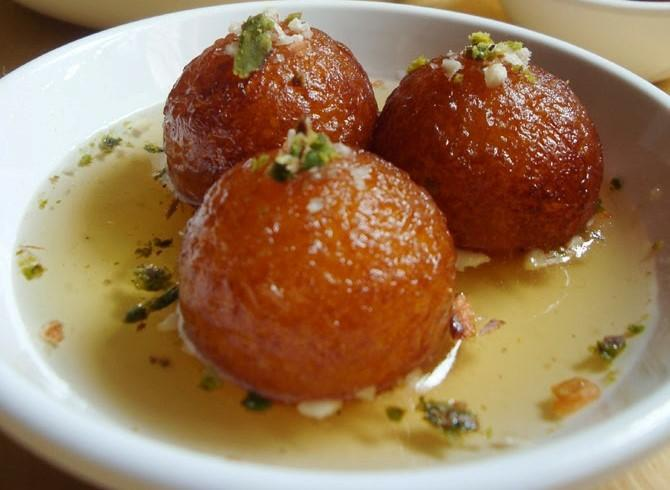GulabJamun: (177, 132, 457, 405), (373, 36, 601, 258), (164, 12, 383, 208)
